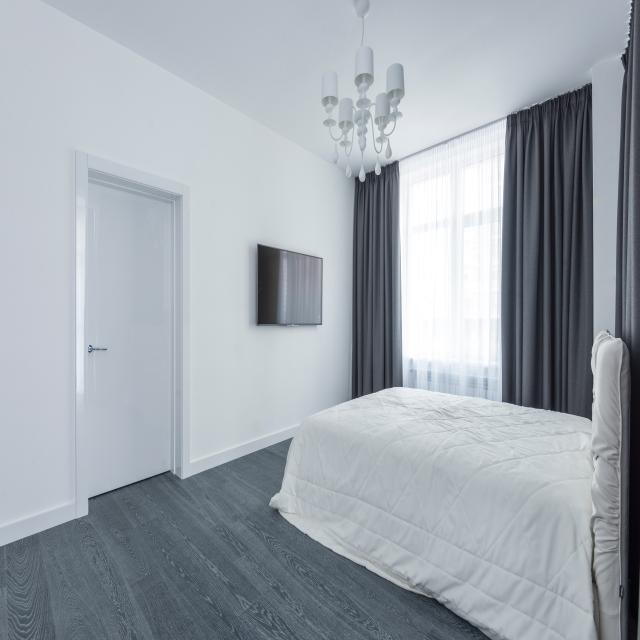floor: (0, 437, 492, 640)
wall: (592, 56, 625, 343)
